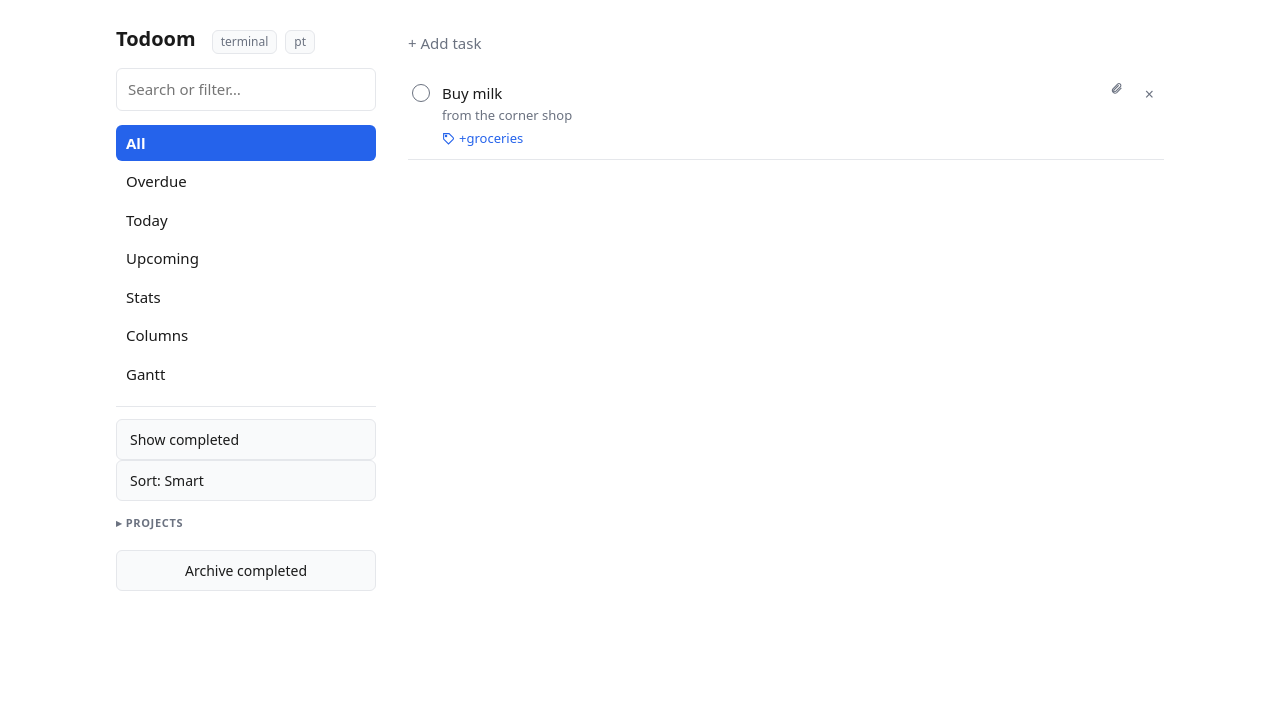
task modal › opens on the task title with the task in it
Click the text with class "task__text": {"x": 472, "y": 92} [442,82,502,102]
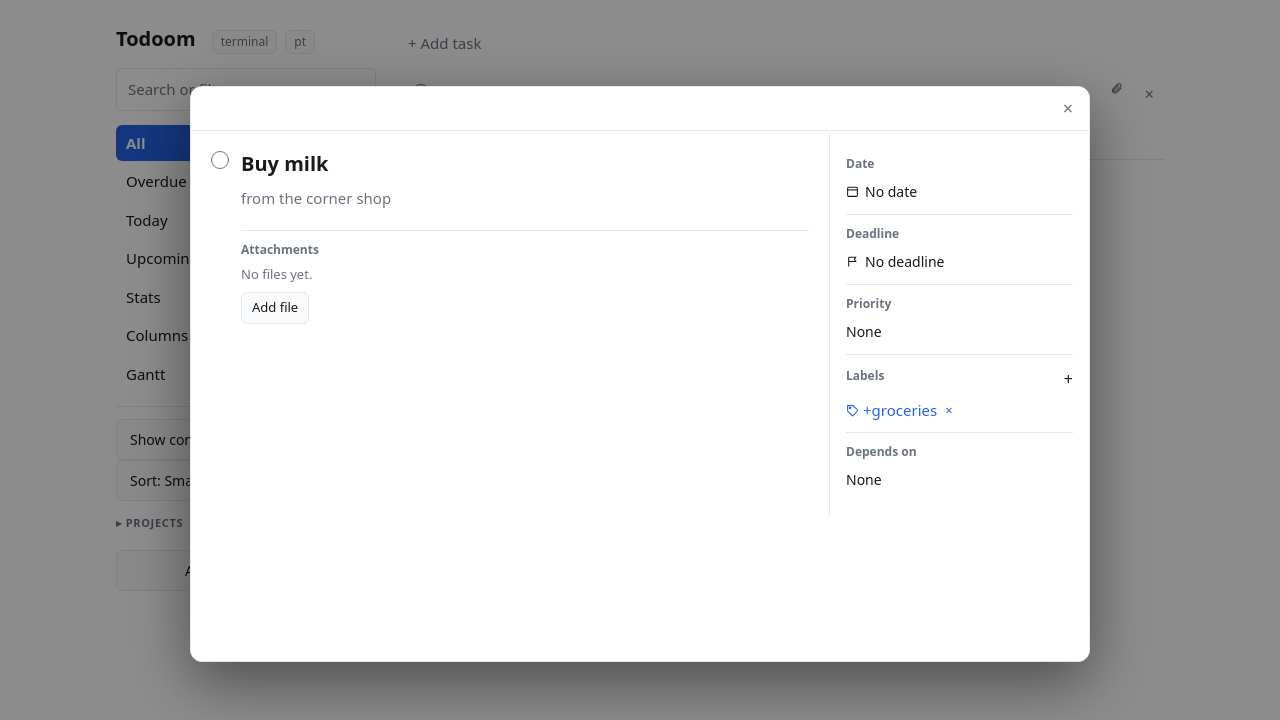
Check: the field with class "task-modal__title" holds "Buy milk", box [241,149,809,179]
Check: the field with class "task-modal__note" holds "from the corner shop", box [241,187,809,210]
